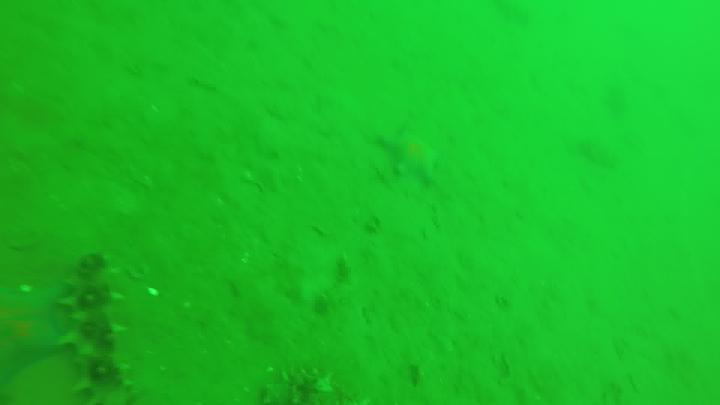holothurian: (54, 249, 134, 405), (262, 368, 376, 405)
starfish: (380, 126, 443, 182)
